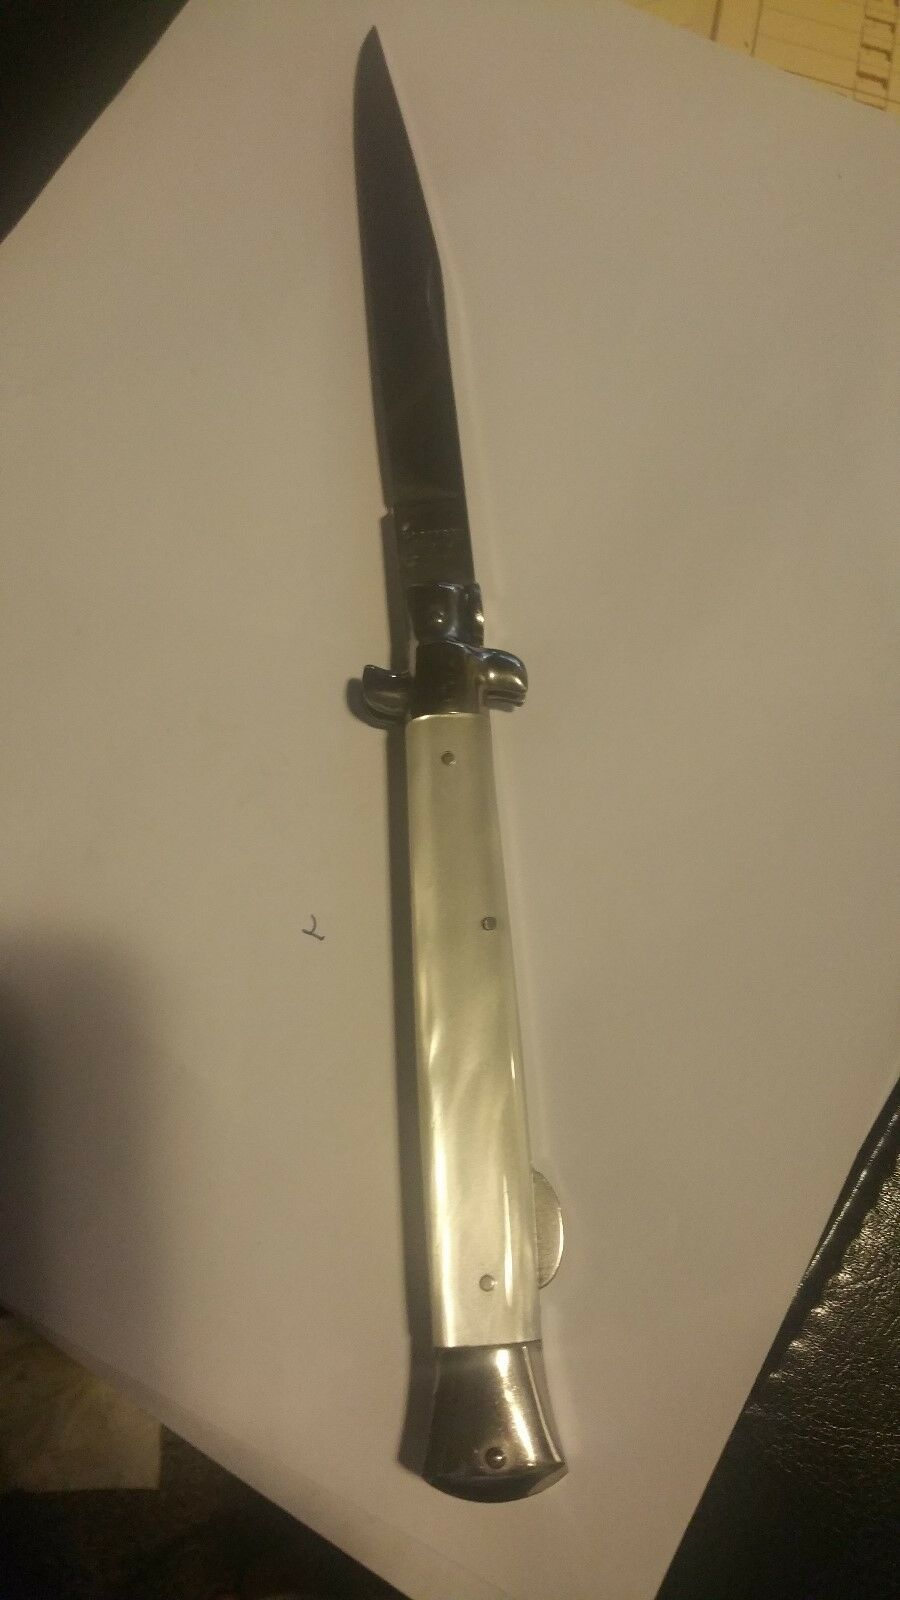knief: (293, 23, 664, 1518)
